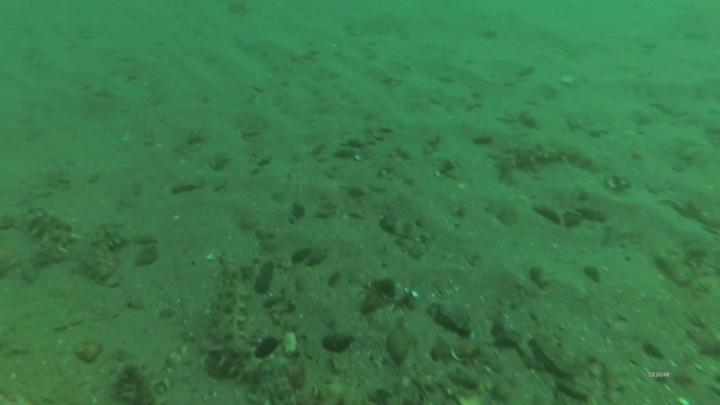holothurian: (200, 261, 263, 374), (496, 137, 607, 179), (21, 204, 82, 272), (87, 224, 128, 282)
